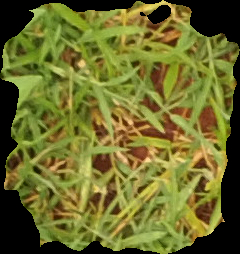grass: (2, 1, 237, 252)
